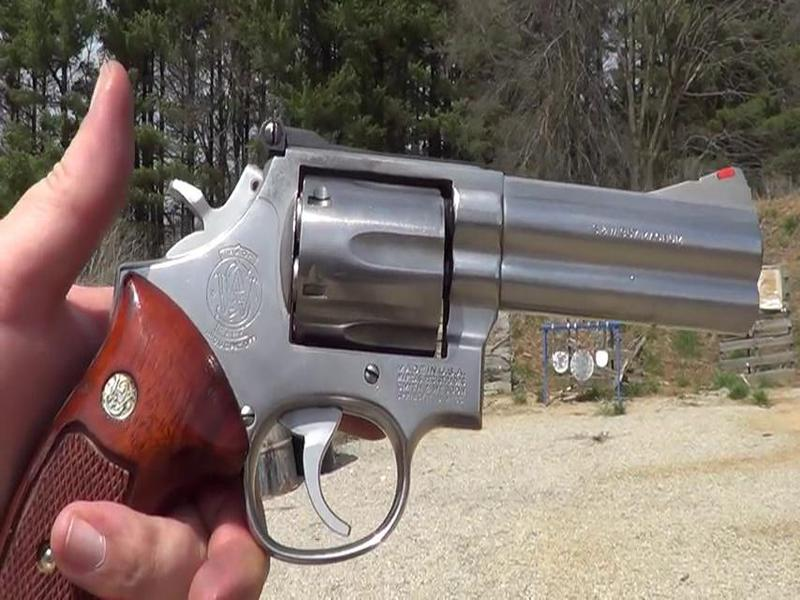Revolver: (96, 101, 792, 574)
